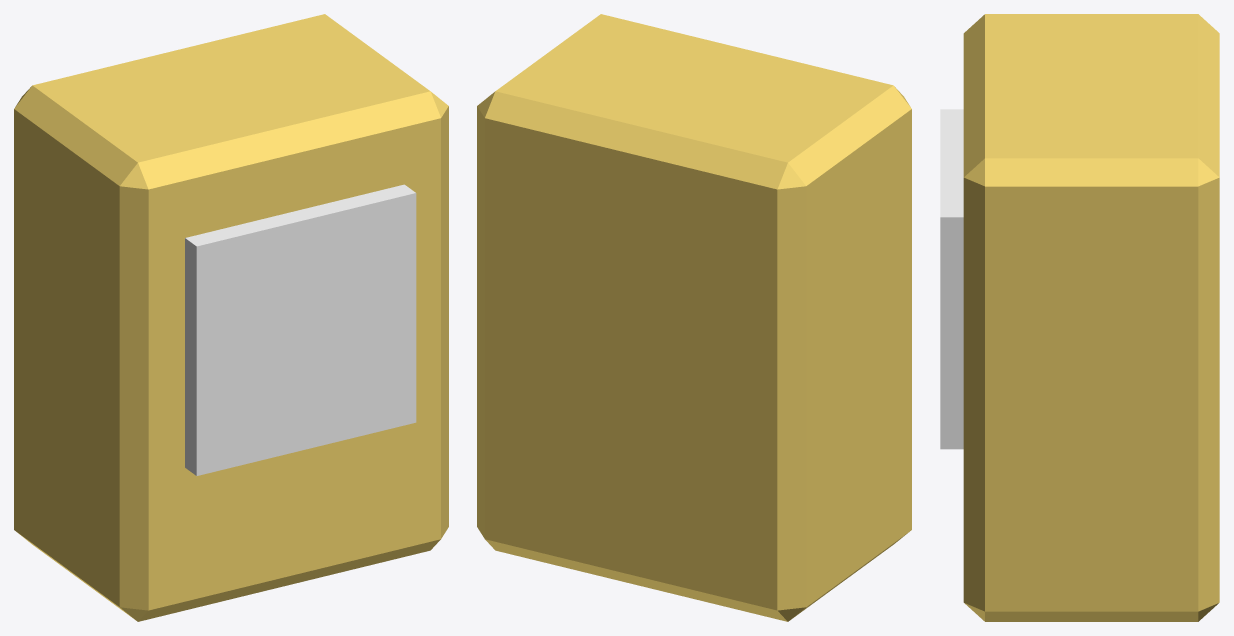
The picture shows the model from 3 angles, left to right: view 1: azimuth 30°, elevation 25°; view 2: azimuth 150°, elevation 25°; view 3: azimuth 270°, elevation 25°; orthographic projection.
Parts seen in each view (by area): view 1: Package, Front label; view 2: Package; view 3: Package, Front label.
Boxes of the visible parts, x1,y1,x2,y2 form: Package: (14,14,448,621); Front label: (185,184,416,475); Package: (477,14,911,621); Package: (963,14,1219,621); Front label: (940,109,963,449).
Bounding box in the file's own units: 0.18 × 0.24 × 0.131.
1 material, 1 textured.
